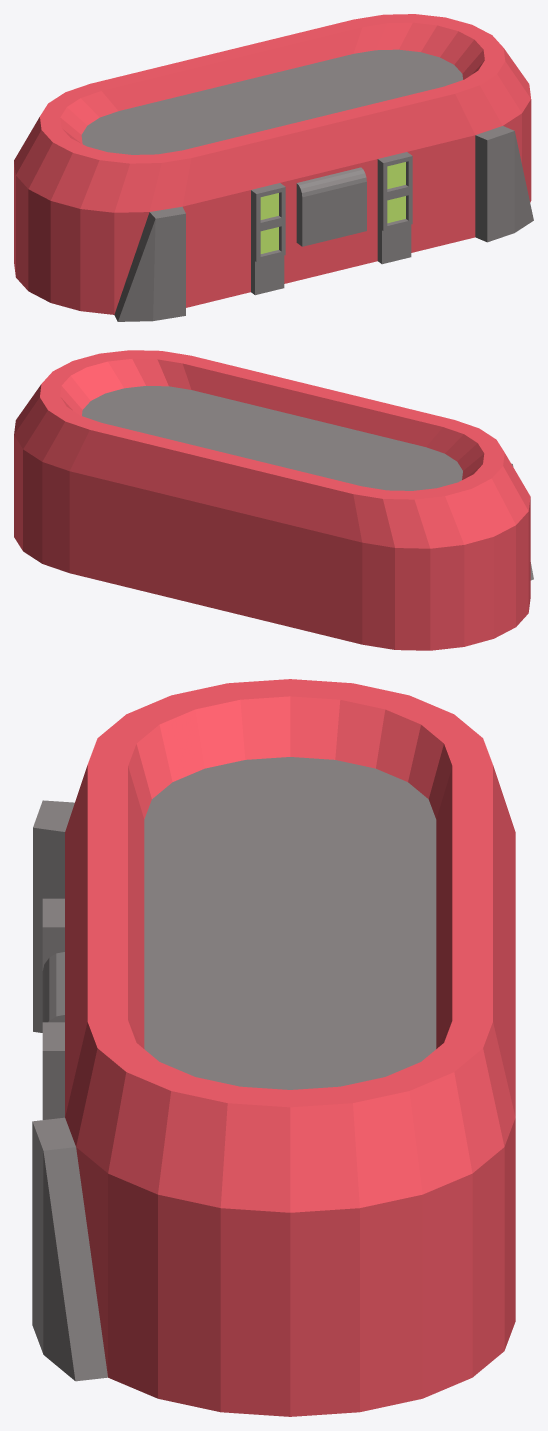
File: Red Chest.glb
The picture shows the model from 3 angles, top to bottom: view 1: azimuth 30°, elevation 25°; view 2: azimuth 150°, elevation 25°; view 3: azimuth 270°, elevation 25°; orthographic projection. The views are drawn at different scales.
Visible parts, largest first — view 1: Red Chest Lid, Red Chest; view 2: Red Chest Lid, Red Chest; view 3: Red Chest Lid, Red Chest.
Part boxes in pixels (<box>): Red Chest Lid: <box>14,14,530,212</box>; Red Chest: <box>14,99,533,321</box>; Red Chest Lid: <box>14,350,530,548</box>; Red Chest: <box>14,435,533,650</box>; Red Chest Lid: <box>65,679,515,1212</box>; Red Chest: <box>32,800,515,1416</box>.
Size of the model in its own units: 5 by 1.4 by 2.14.
Materials: 2 (2 with a texture image).
